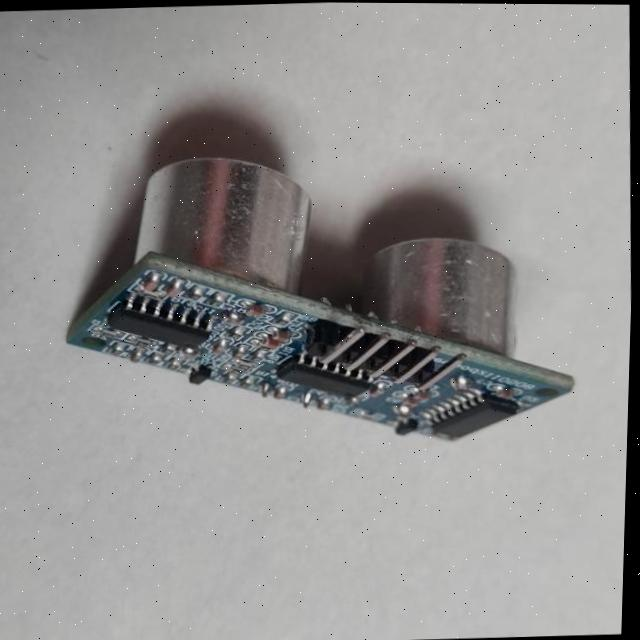Ultrasonic Sensor: (31, 141, 597, 493)
